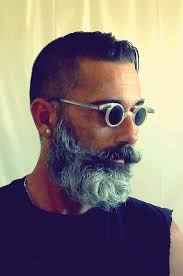b.y: (60, 130, 136, 208)
